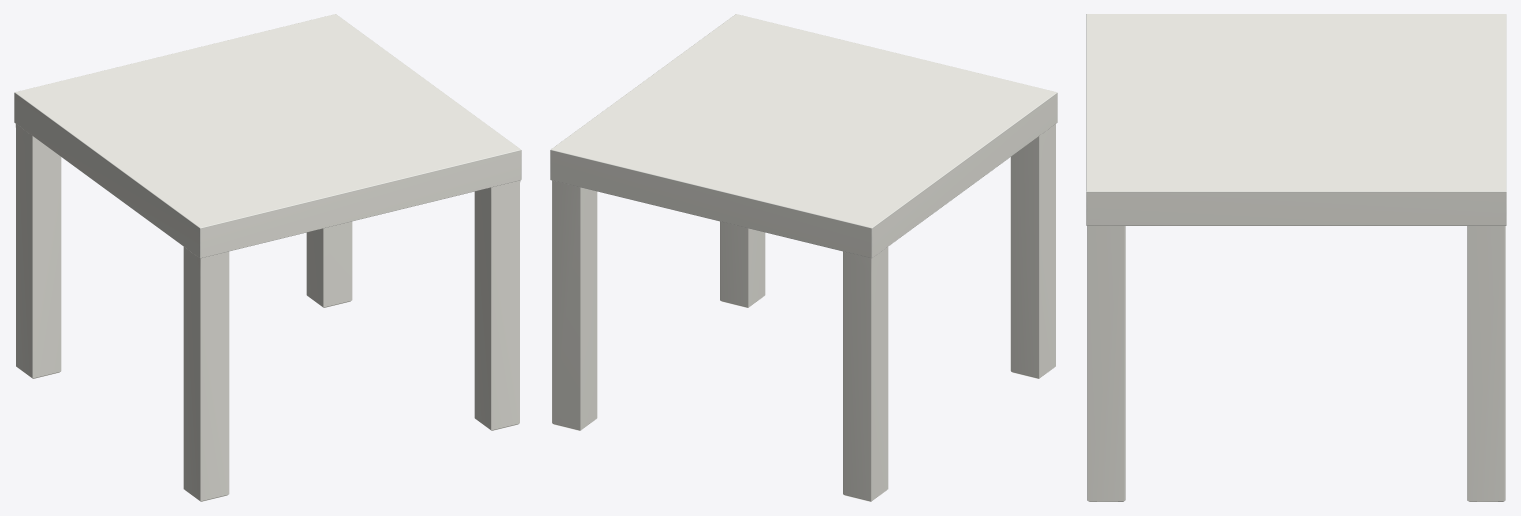
Rendered from 32 - LACK Side table - white 55x55 cm.glb.
3 views of the same model, side by side, from view 1: azimuth 30°, elevation 25°; view 2: azimuth 150°, elevation 25°; view 3: azimuth 270°, elevation 25° (orthographic). The views are drawn at different scales.
Visible parts, largest first — view 1: 30449908-LACK002; view 2: 30449908-LACK002; view 3: 30449908-LACK002.
Boxes of the visible parts, x1,y1,x2,y2 form: 30449908-LACK002: [14, 14, 521, 501]; 30449908-LACK002: [550, 14, 1057, 501]; 30449908-LACK002: [1086, 14, 1506, 501].
Bounding box in the file's own units: 0.55 × 0.45 × 0.55.
1 material, 1 textured.
